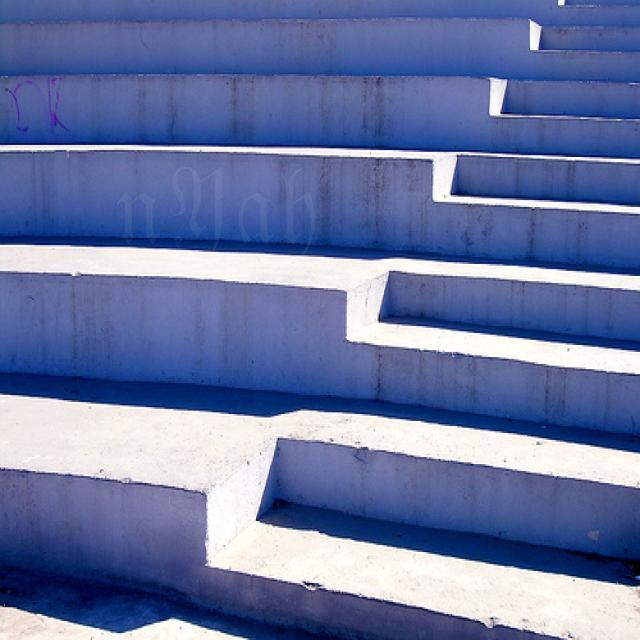stairs: (1, 0, 638, 637)
